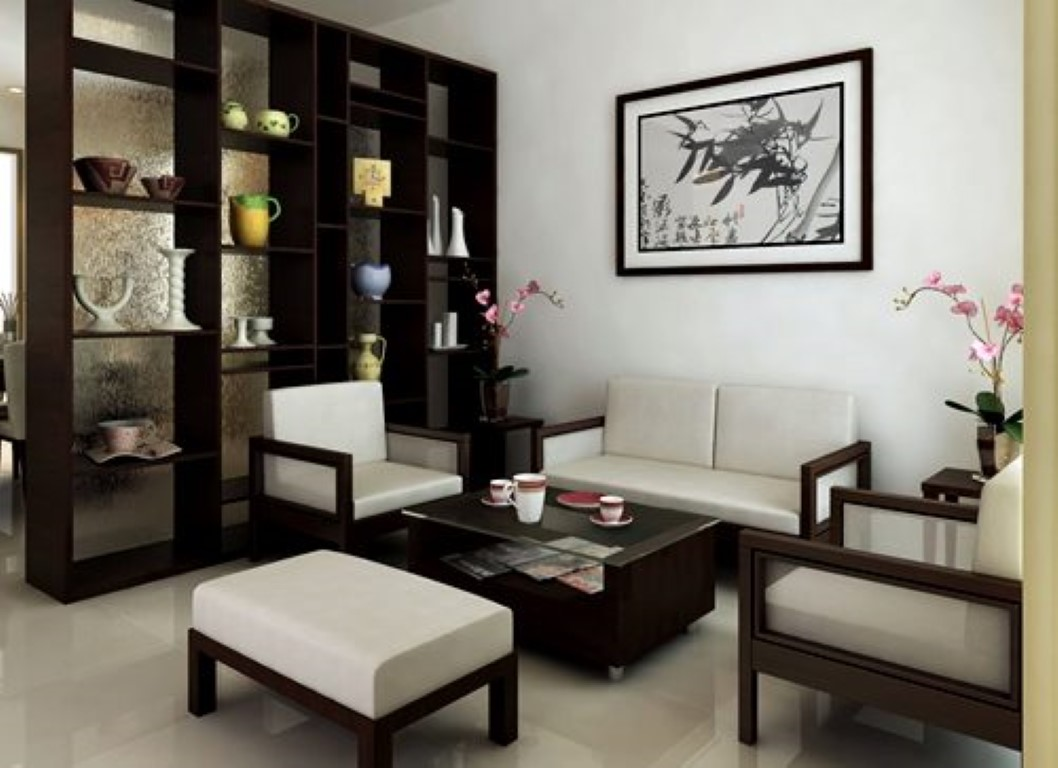gelas: (226, 192, 283, 247), (504, 470, 548, 526), (590, 492, 635, 528), (255, 106, 300, 141), (484, 474, 517, 510)
kursi: (736, 453, 1024, 760), (183, 551, 525, 766), (530, 373, 876, 533), (242, 374, 475, 561)
lukisan: (608, 44, 880, 278)
meja: (401, 479, 715, 675)
tanaman: (890, 264, 1022, 440), (462, 278, 520, 416)
